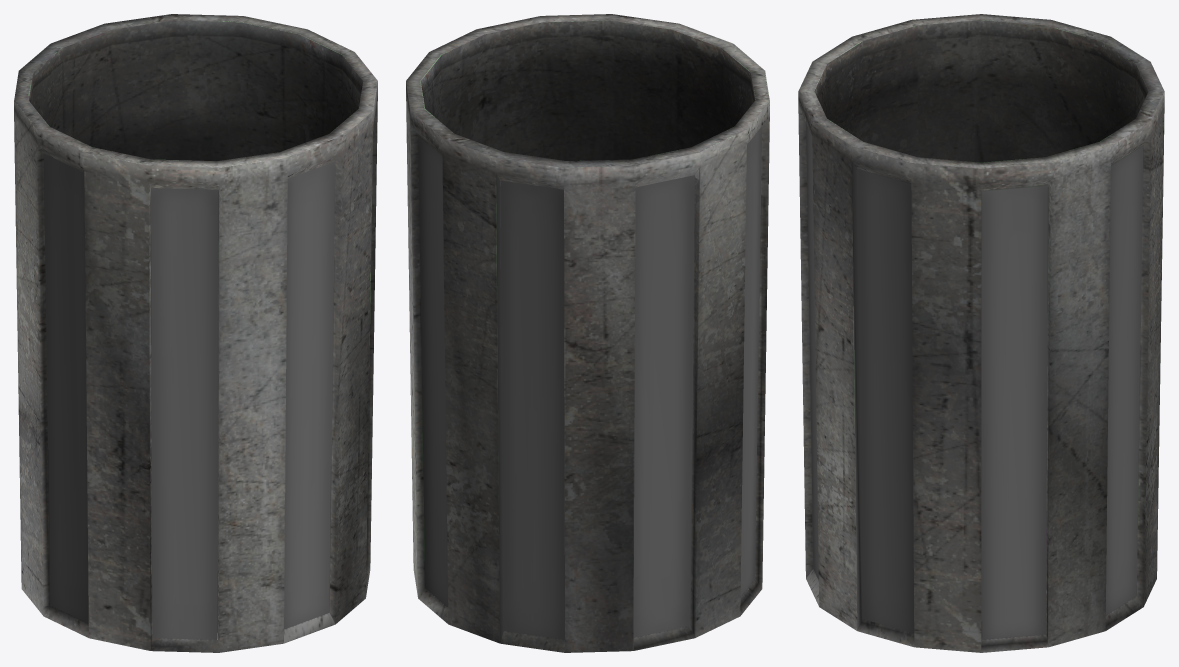
The model's file is Bin.fbx.
3 views of the same model, side by side, from view 1: azimuth 30°, elevation 25°; view 2: azimuth 150°, elevation 25°; view 3: azimuth 270°, elevation 25° (orthographic).
Parts seen in each view (by area): view 1: Cylinder_001; view 2: Cylinder_001; view 3: Cylinder_001.
Boxes of the visible parts, <box> form: Cylinder_001: <box>14,14,377,652</box>; Cylinder_001: <box>406,14,769,652</box>; Cylinder_001: <box>798,14,1164,652</box>.
Size of the model in its own units: 0.6328 by 0.9292 by 0.6328.
